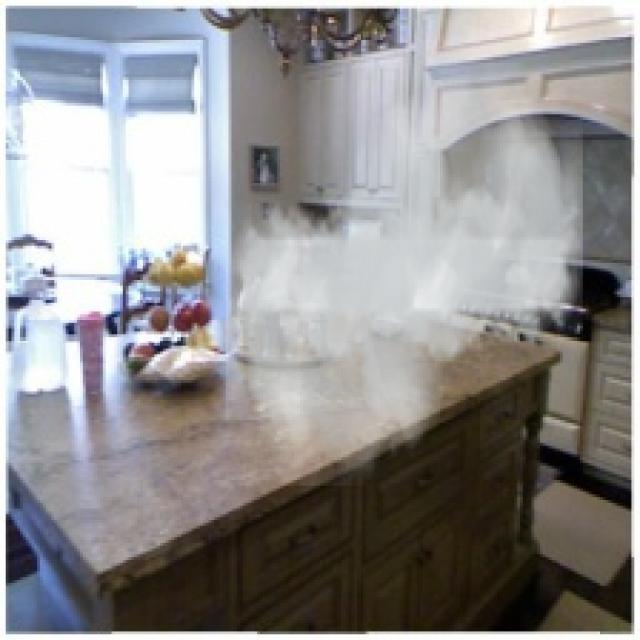smoke: (226, 63, 583, 486)
